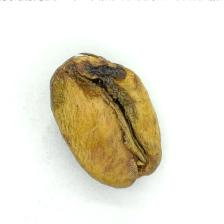NG: (49, 56, 141, 125)
